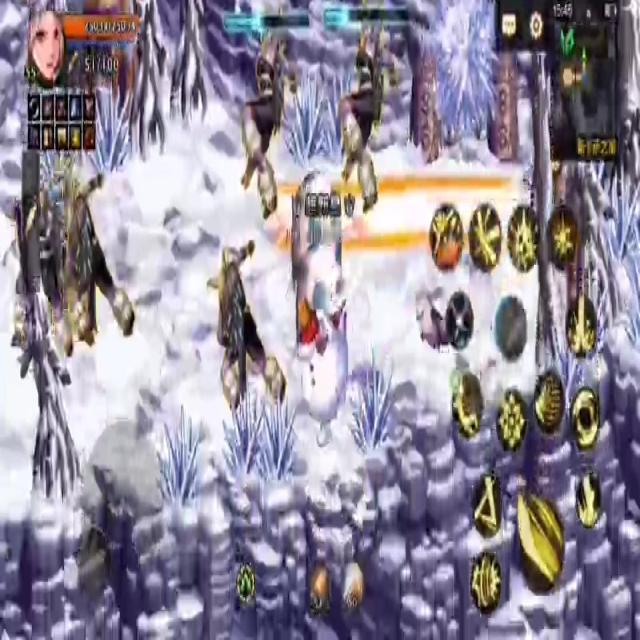player: (295, 286, 351, 445)
